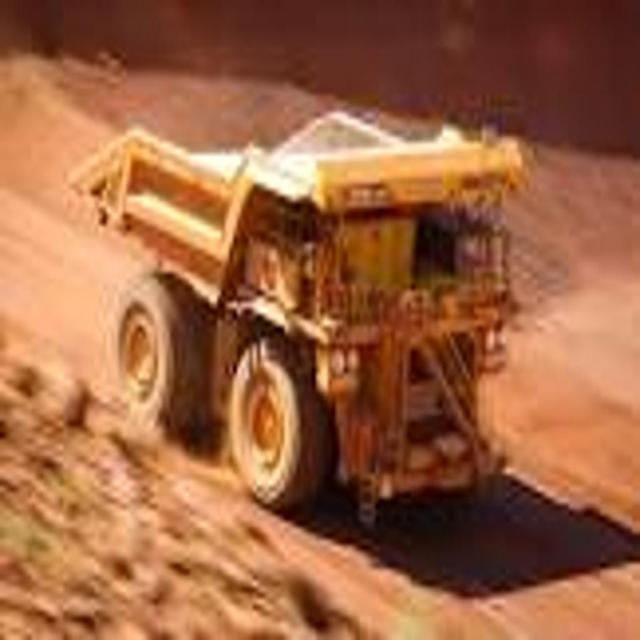dump_truck: (67, 96, 536, 518)
